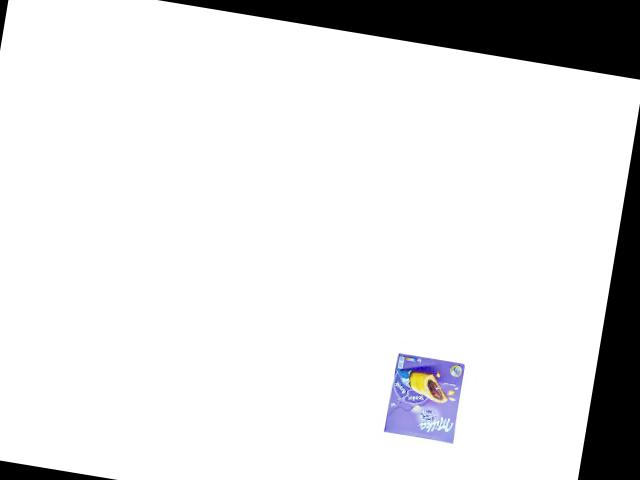chocolate: (380, 346, 470, 449)
